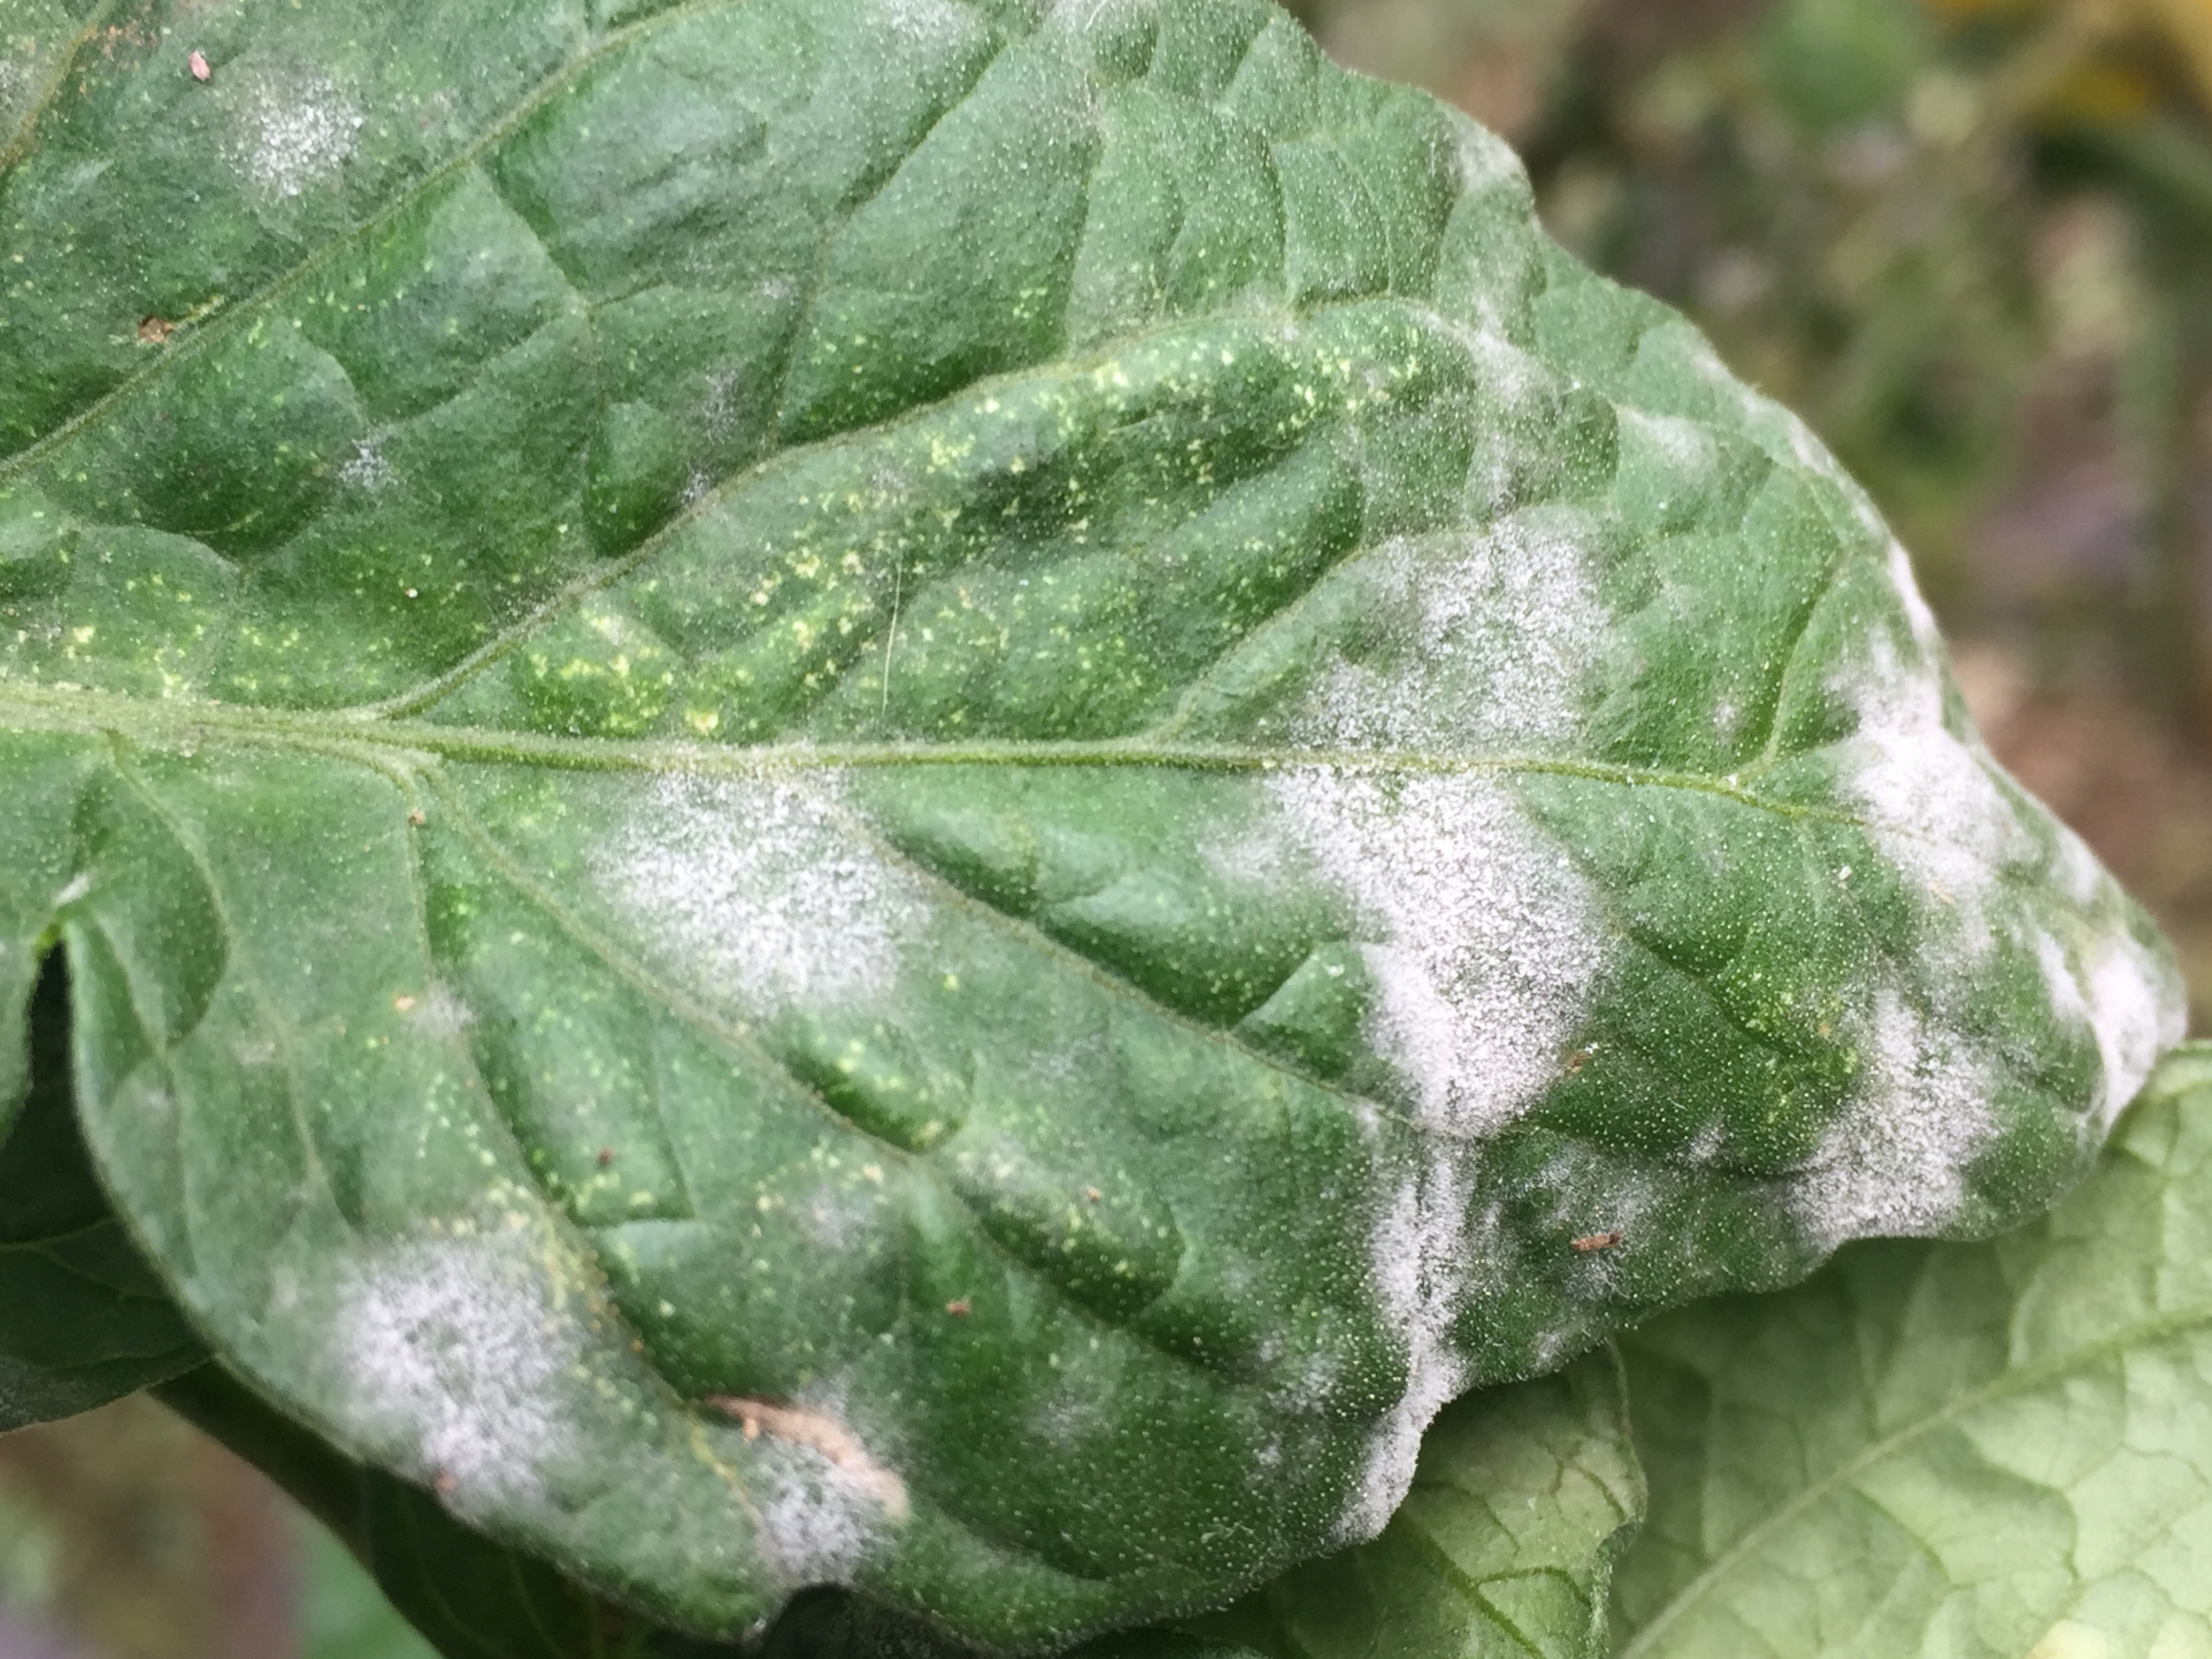blanca: (1256, 500, 1665, 1138), (597, 748, 934, 1035), (324, 1183, 603, 1521), (1831, 568, 2031, 969), (1770, 972, 2010, 1262), (1338, 1155, 1479, 1554), (718, 1347, 913, 1600), (2047, 835, 2179, 1115), (1414, 284, 1561, 500), (221, 77, 359, 214), (1615, 392, 1717, 477), (1447, 113, 1541, 199)
